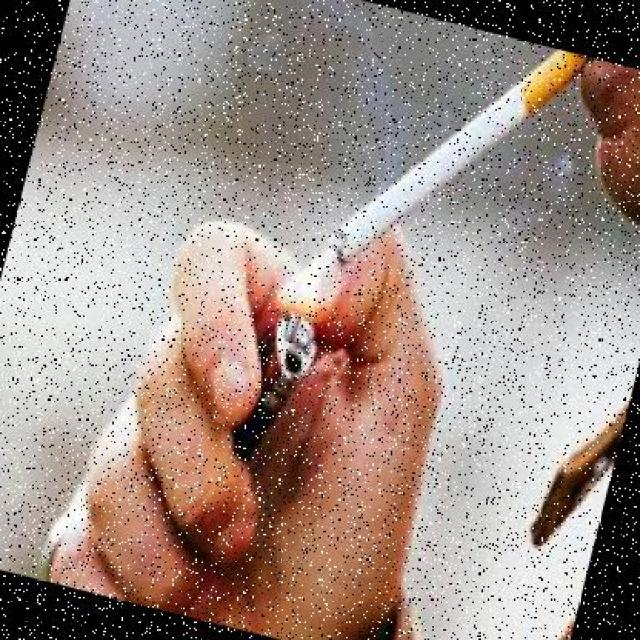fire: (280, 231, 343, 326)
